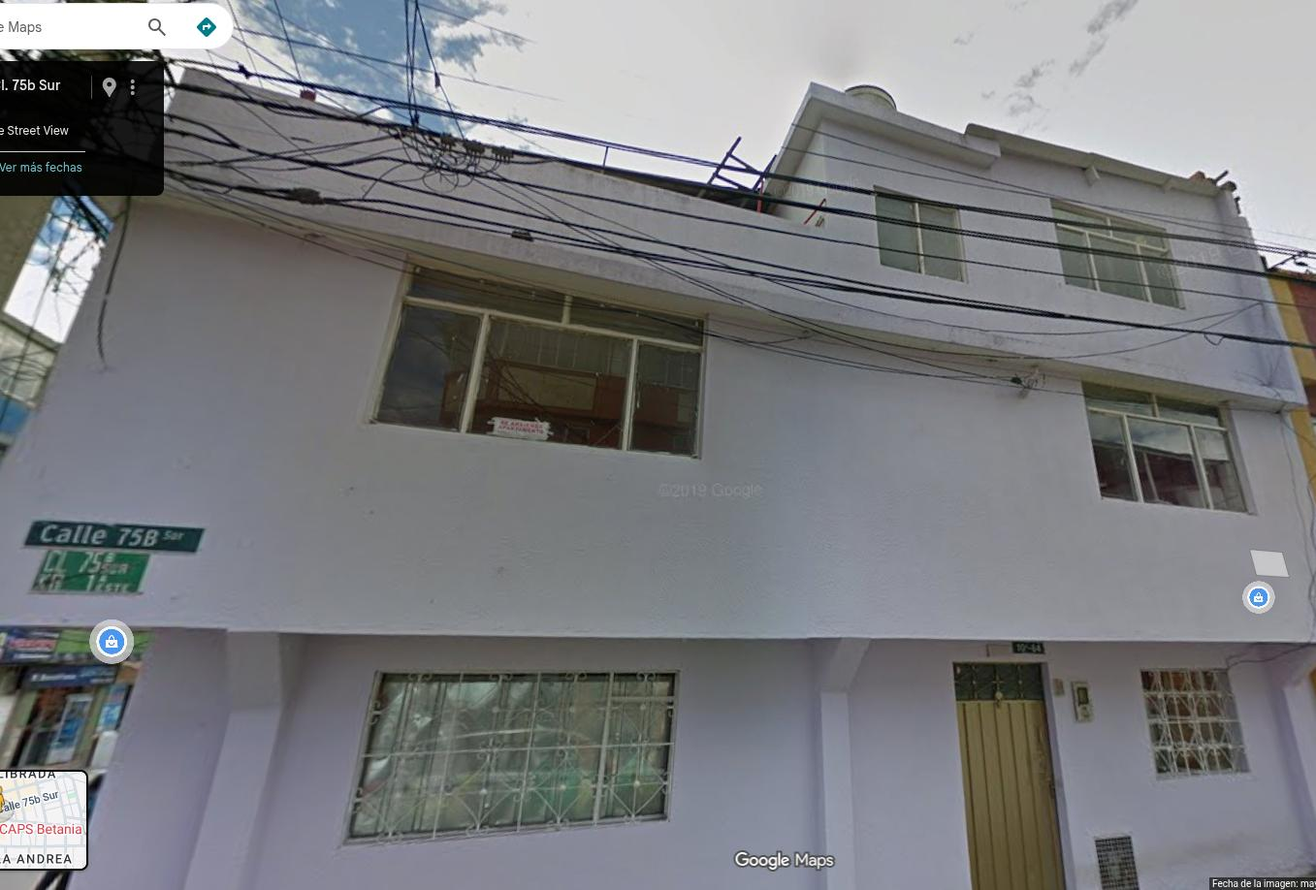casa: (0, 71, 1315, 889)
